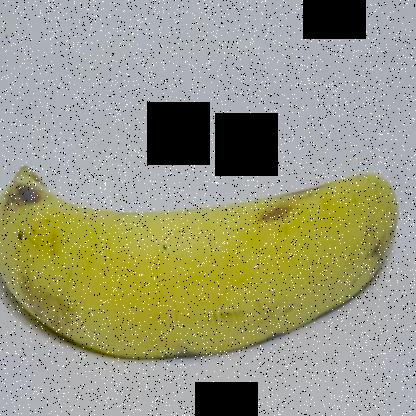freshripe: (1, 117, 407, 388)
